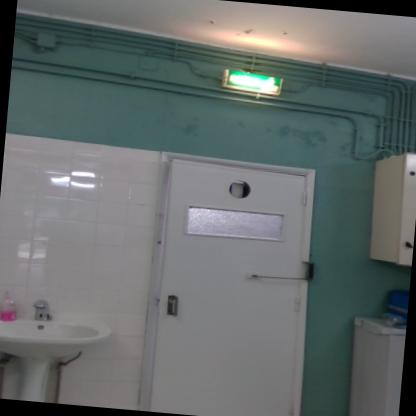closed: (129, 139, 337, 415)
